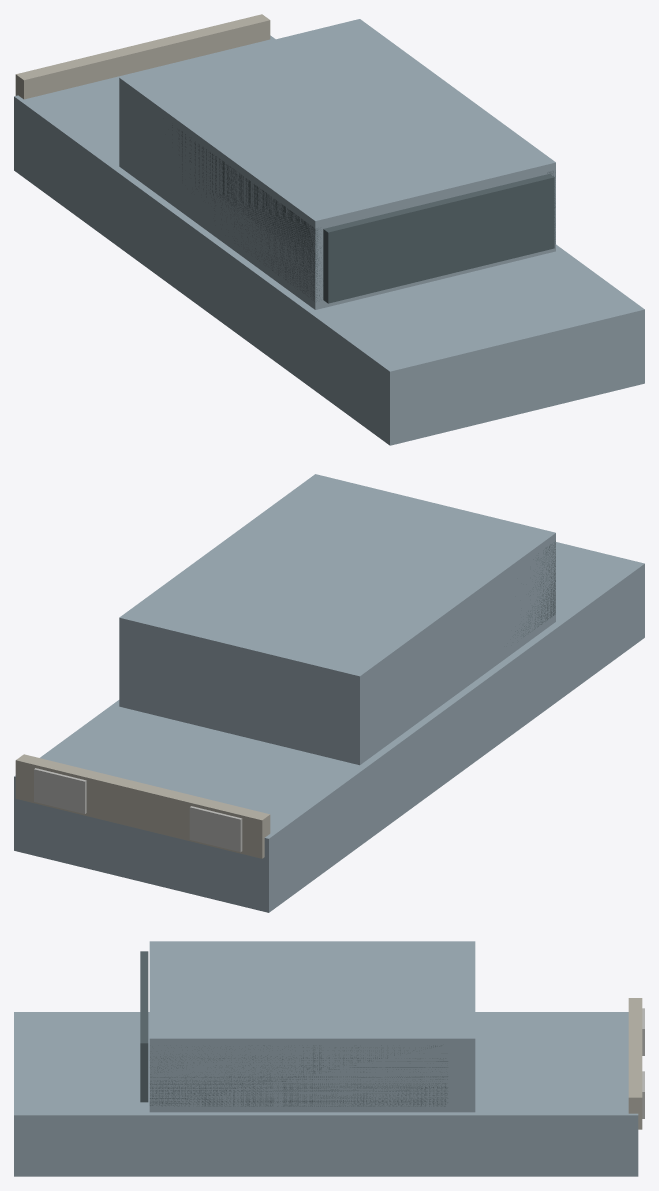
The model's file is v_gaz24.glb.
3 views of the same model, one above another, from view 1: azimuth 30°, elevation 25°; view 2: azimuth 150°, elevation 25°; view 3: azimuth 270°, elevation 25° (orthographic). The views are drawn at different scales.
Parts seen in each view (by area): view 1: body; view 2: body; view 3: body.
Boxes of the visible parts, x1=… form: body: x1=14, y1=14, x2=644, y2=445; body: x1=14, y1=474, x2=644, y2=912; body: x1=14, y1=941, x2=644, y2=1176.
Bounding box in the file's own units: 1.8 × 1.1 × 4.65.
